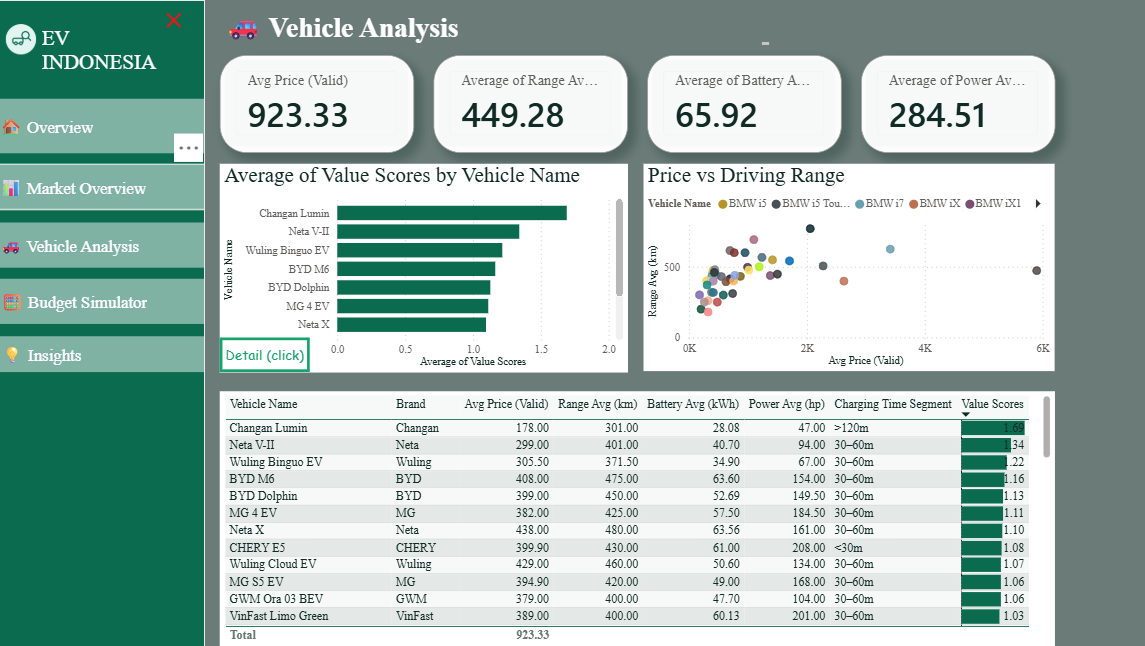

Layout of this report page (visuals, bound fields, positions):
{"tool":"powerbi","page":{"name":"Vehicle Analysis","canvas":[1280,720],"ordinal":2},"visuals":[{"type":"shape","title":"Sidebar Background","box":[0,0,232,720.4],"z":0,"group":"g1"},{"type":"textbox","title":"🚗 Vehicle Analysis","box":[248.3,8.3,615,46.7],"z":0},{"type":"textbox","title":"EV INDONESIA","box":[46.3,29.4,159.3,60.6],"z":1000,"group":"g1"},{"type":"cardVisual","fields":{"Data":["EV_Data.Avg Price (Valid)"]},"box":[248,61.3,215.7,108.6],"z":1000},{"type":"actionButton","title":"Sidebar Close","box":[171,1.7,53.7,39.8],"z":2000,"group":"g1"},{"type":"cardVisual","fields":{"Data":["Avg(EV_Data.Range Avg (km))"]},"box":[486.6,61.3,215.7,108.6],"z":2000},{"type":"cardVisual","fields":{"Data":["Avg(EV_Data.Battery Avg (kWh))"]},"box":[723.7,61.3,215.7,108.6],"z":3000},{"type":"actionButton","box":[0,109.1,232,60.6],"z":3000,"group":"g1"},{"type":"cardVisual","fields":{"Data":["Avg(EV_Data.Power Avg (hp))"]},"box":[960.9,61.3,215.7,108.6],"z":4000},{"type":"actionButton","box":[0,181.8,232,51.9],"z":4000,"group":"g1"},{"type":"clusteredBarChart","fields":{"Category":["EV_Data.Vehicle Name"],"Y":["Avg(EV_Data.Value Scores)"]},"box":[248.3,181.7,453.3,231.7],"z":5000},{"type":"actionButton","box":[0,247.6,232,50.2],"z":5000,"group":"g1"},{"type":"scatterChart","title":"Price vs Driving Range","fields":{"Y":["EV_Data.Range Avg (km)"],"Series":["EV_Data.Vehicle Name"],"X":["EV_Data.Avg Price (Valid)"]},"box":[720,181.7,456.7,230],"z":6000},{"type":"actionButton","box":[1.7,310,230.3,50.2],"z":6000,"group":"g1"},{"type":"actionButton","box":[1.7,374,230.3,39.8],"z":7000,"group":"g1"},{"type":"tableEx","fields":{"Values":["EV_Data.Vehicle Name","EV_Data.Brand","EV_Data.Avg Price (Valid)","EV_Data.Range Avg (km)","EV_Data.Battery Avg (kWh)","EV_Data.Power Avg (hp)","EV_Data.Charging Time Segment","EV_Data.Value Scores"]},"box":[248.3,435,928.3,285],"z":7000},{"type":"image","box":[9.6,21.4,36.3,45.7],"z":8000,"group":"g1"},{"type":"actionButton","box":[248.3,375,100,38.3],"z":8000},{"type":"group","id":"g1","title":"SIDEBAR","box":[0,0,232,720.4],"z":9000}]}

Visuals, with their boxes on the page's 1280x720 design canvas (x1, y1, x2, y2). These are canvas units, not pixel positions in the 1145x646 screenshot, which may show the page scaled, cropped or inside an application window:
"Sidebar Background" shape: 0, 0, 232, 720
"🚗 Vehicle Analysis" textbox: 248, 8, 863, 55
"EV INDONESIA" textbox: 46, 29, 206, 90
cardVisual - EV_Data.Avg Price (Valid): 248, 61, 464, 170
"Sidebar Close" actionButton: 171, 2, 225, 42
cardVisual - Avg(EV_Data.Range Avg (km)): 487, 61, 702, 170
cardVisual - Avg(EV_Data.Battery Avg (kWh)): 724, 61, 939, 170
actionButton: 0, 109, 232, 170
cardVisual - Avg(EV_Data.Power Avg (hp)): 961, 61, 1177, 170
actionButton: 0, 182, 232, 234
clusteredBarChart - EV_Data.Vehicle Name x Avg(EV_Data.Value Scores): 248, 182, 702, 413
actionButton: 0, 248, 232, 298
"Price vs Driving Range" scatterChart: 720, 182, 1177, 412
actionButton: 2, 310, 232, 360
actionButton: 2, 374, 232, 414
tableEx - EV_Data.Vehicle Name x EV_Data.Brand: 248, 435, 1177, 720
image: 10, 21, 46, 67
actionButton: 248, 375, 348, 413
"SIDEBAR" group: 0, 0, 232, 720
